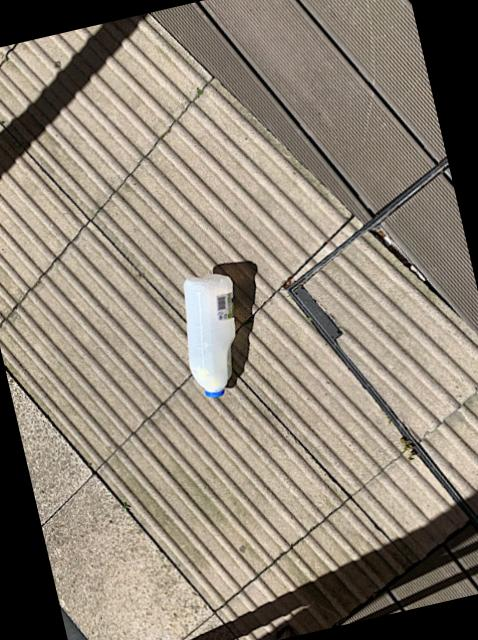plastic: (182, 272, 233, 396)
